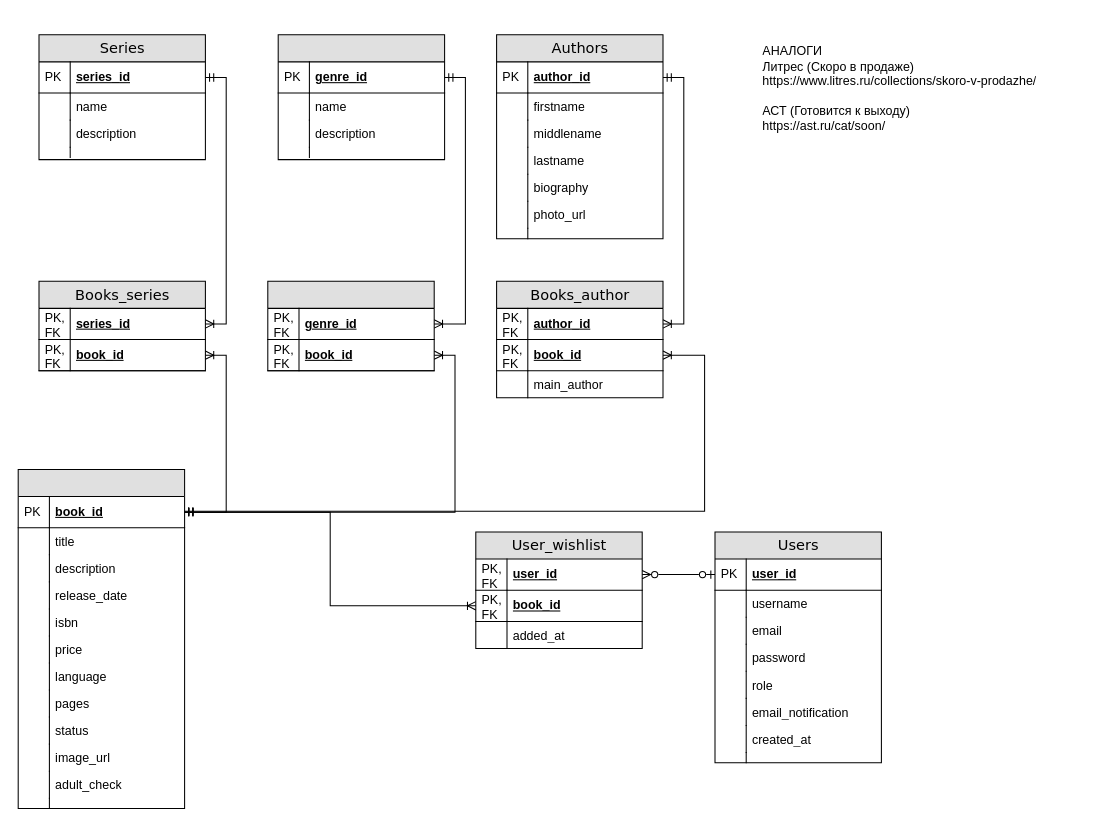
Image size: 1118x827. Some labels were removed from this diagram. Here are the shapes that lost their labels. From the top down, the box of each, then its label:
(277, 34, 445, 160): Genres
(267, 280, 434, 371): Books_genres
(17, 469, 185, 809): Books
